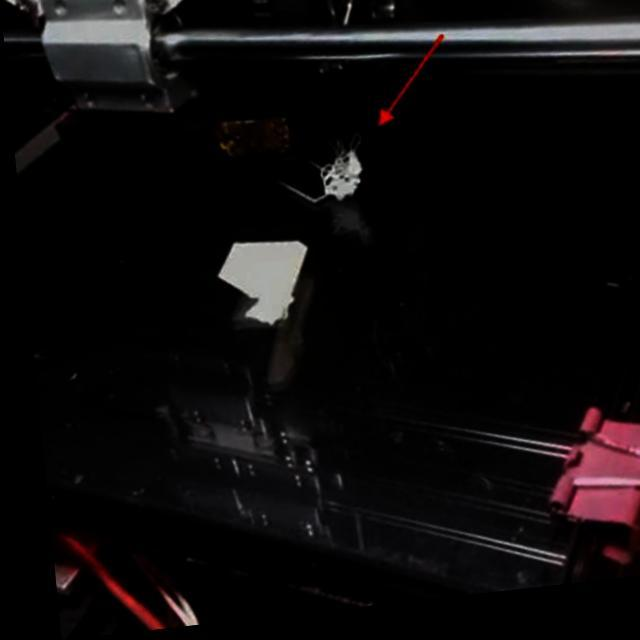spaghetti: (311, 137, 364, 212), (280, 157, 318, 180)
